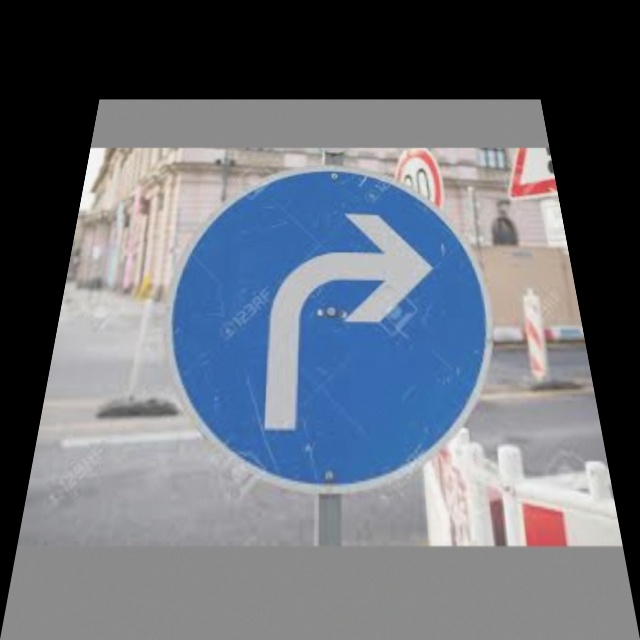Compulsory_Turn_Right_Ahead: (161, 169, 512, 472)
